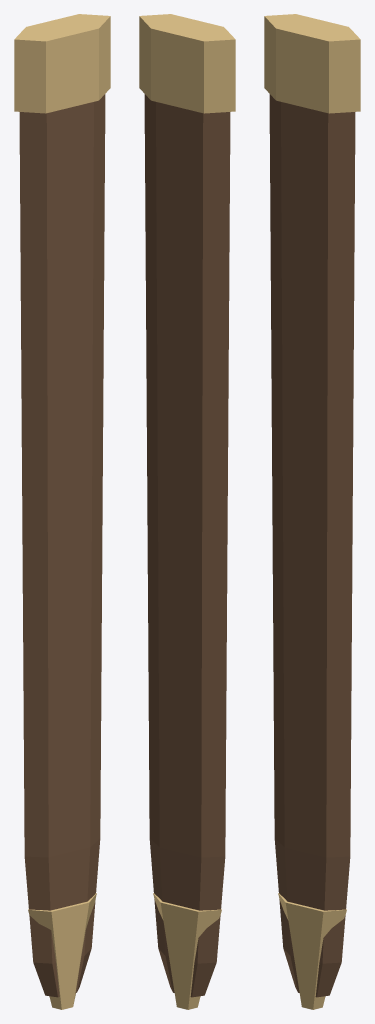
Rendered from scabbard.glb.
The picture shows the model from 3 angles, left to right: view 1: azimuth 30°, elevation 25°; view 2: azimuth 150°, elevation 25°; view 3: azimuth 330°, elevation 25°; orthographic projection.
Parts seen in each view (by area): view 1: sheath; view 2: sheath; view 3: sheath.
Part boxes in pixels (x1,y1,x2,y2): sheath: [14, 14, 110, 1009]; sheath: [139, 14, 235, 1009]; sheath: [264, 14, 360, 1009].
Size of the model in its own units: 0.112 by 1.09 by 0.04.
